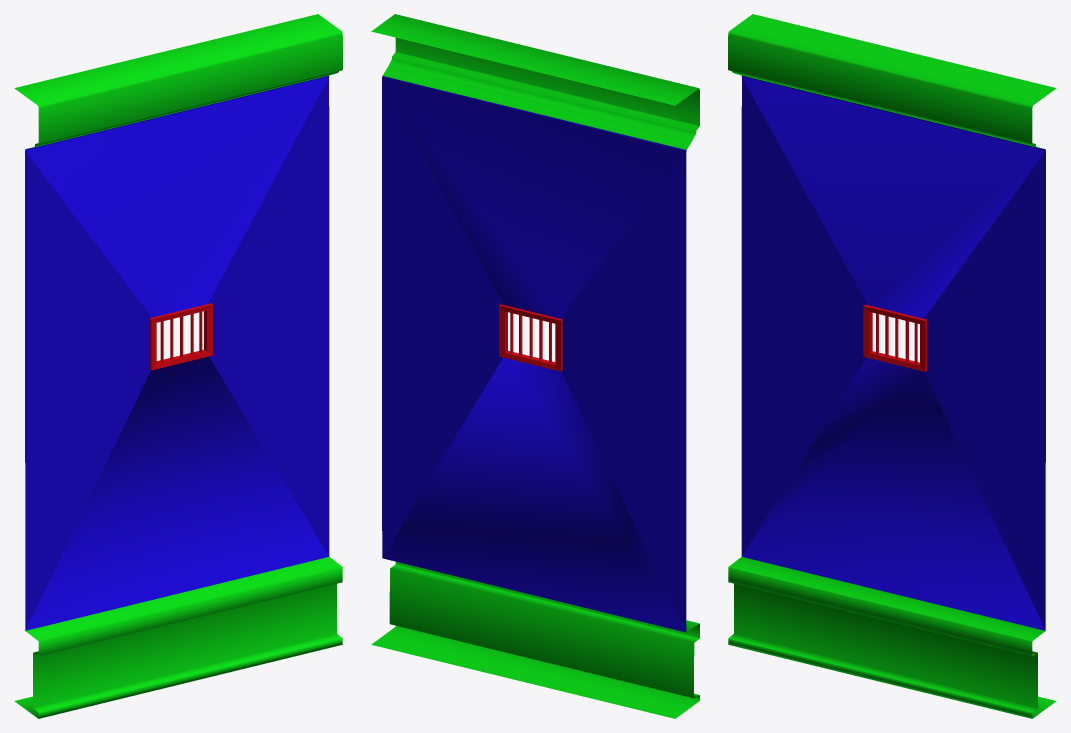
File: C_WindowWall.fbx
The picture shows the model from 3 angles, left to right: view 1: azimuth 30°, elevation 25°; view 2: azimuth 150°, elevation 25°; view 3: azimuth 330°, elevation 25°; orthographic projection.
Visible parts, largest first — view 1: C_WindowWall; view 2: C_WindowWall; view 3: C_WindowWall.
Part boxes in pixels (box(x1,y1,x2,y2)): C_WindowWall: box(14, 14, 342, 718); C_WindowWall: box(371, 14, 699, 718); C_WindowWall: box(728, 14, 1056, 718).
Size of the model in its own units: 163 by 315 by 22.85.
